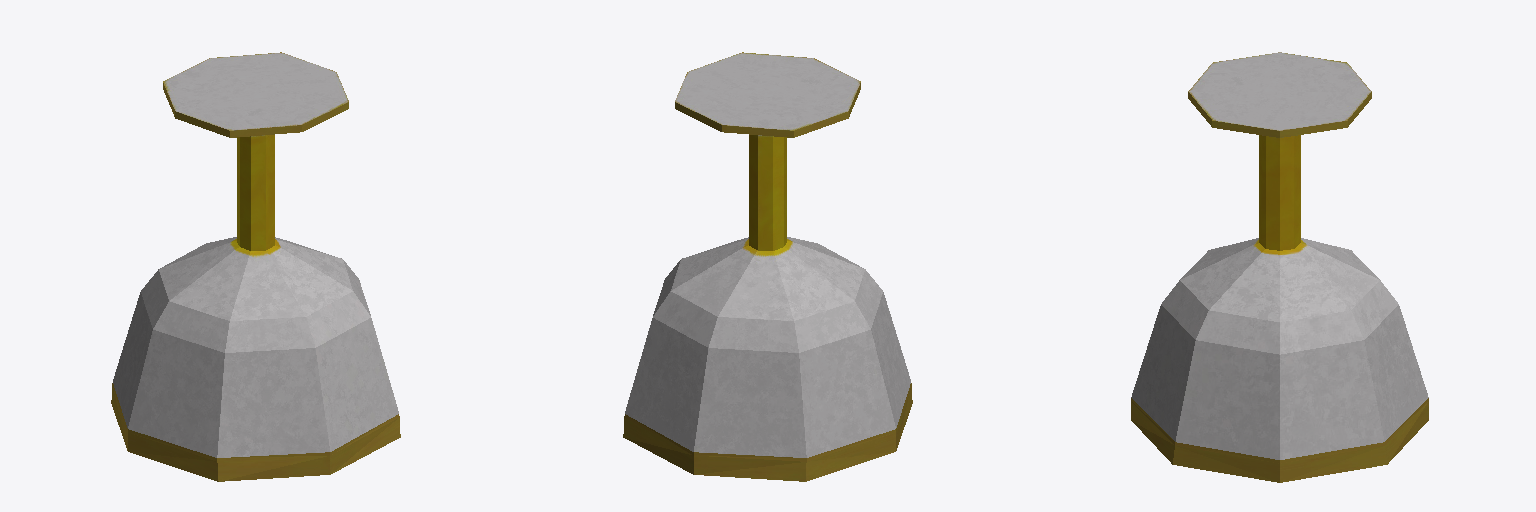
The picture shows the model from 3 angles: view 1: azimuth 30°, elevation 25°; view 2: azimuth 150°, elevation 25°; view 3: azimuth 270°, elevation 25°; orthographic projection.
Visible parts, largest first — view 1: cup1:RoadKillOut; view 2: cup1:RoadKillOut; view 3: cup1:RoadKillOut.
Part boxes in pixels (left/top/right/bottom): cup1:RoadKillOut: left=111, top=52, right=400, bottom=481; cup1:RoadKillOut: left=623, top=52, right=912, bottom=481; cup1:RoadKillOut: left=1131, top=52, right=1428, bottom=482.
Bounding box in the file's own units: 4.03 × 4.93 × 4.05.
1 materials, 1 textured.